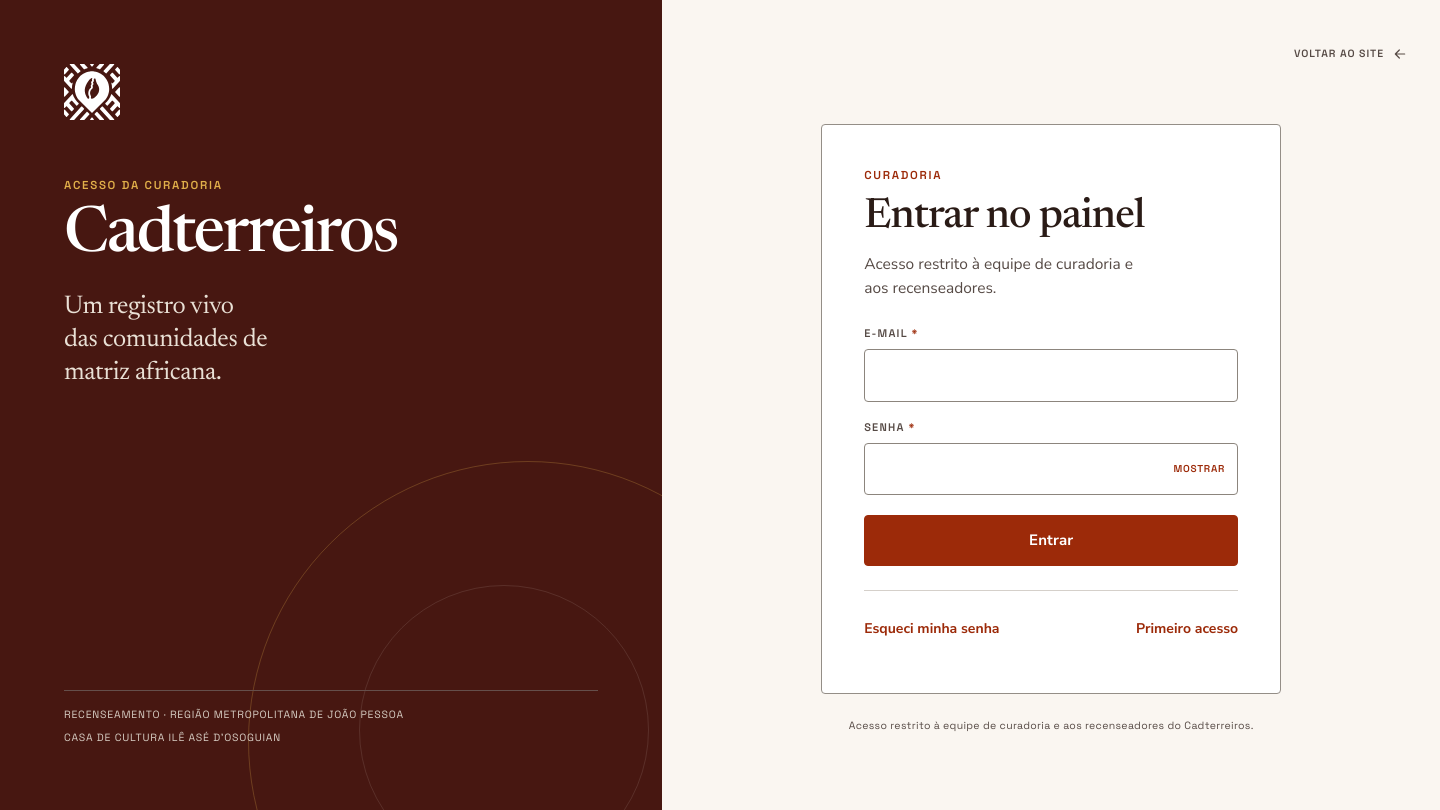
Test: Login › envia origin web e mostra a recusa da API
Type "curadoria@cciao.org" into the field labelled "E-mail *" at (1051, 375), box x1=864 y1=349 x2=1238 y2=402
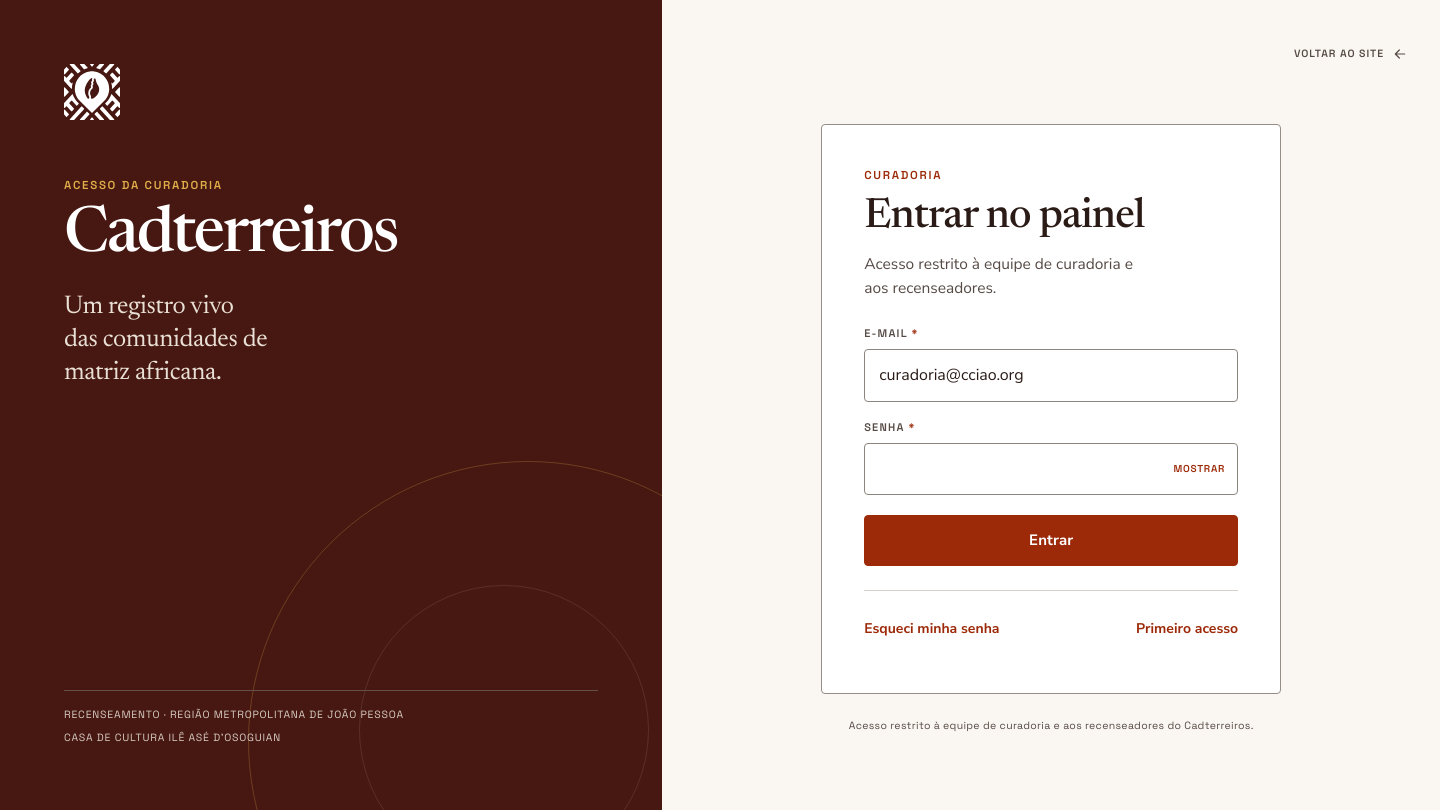
Type "segredo" into the password field labelled "Senha *" at (1051, 469), box x1=864 y1=443 x2=1238 y2=495
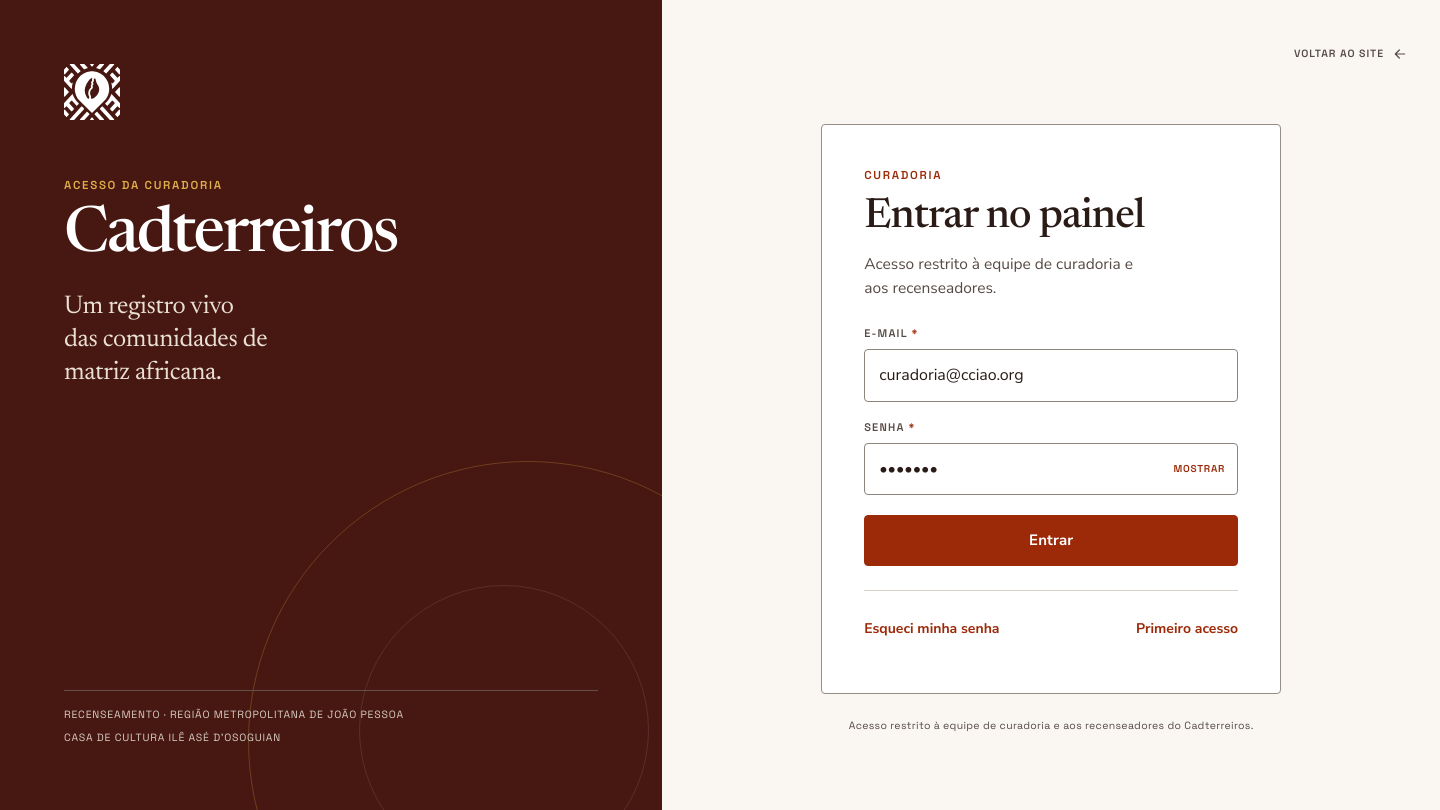
Click the button "Entrar" at (1051, 540), box x1=864 y1=515 x2=1238 y2=566
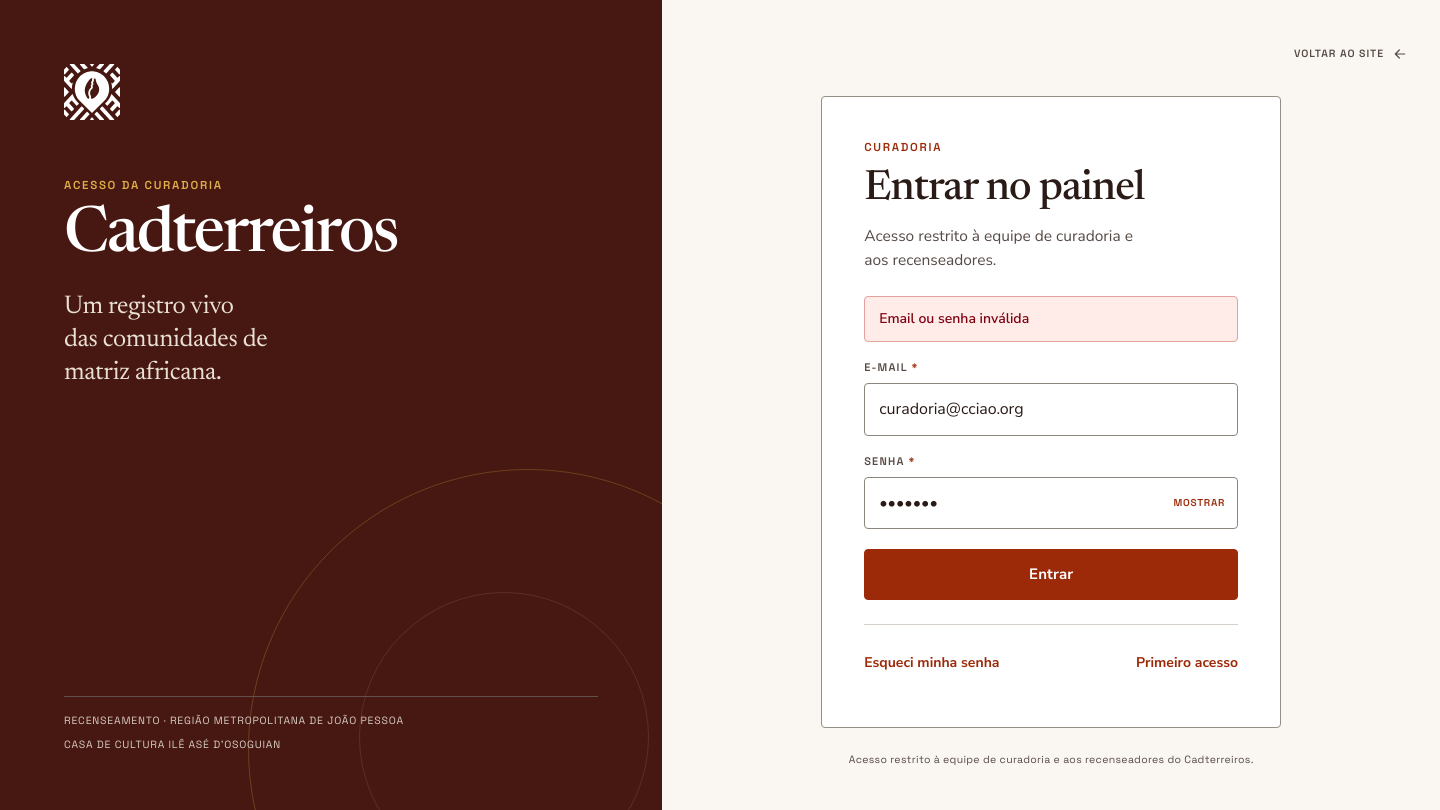
Expected: the message reads "Email ou senha inválida", x1=879 y1=309 x2=1029 y2=328
